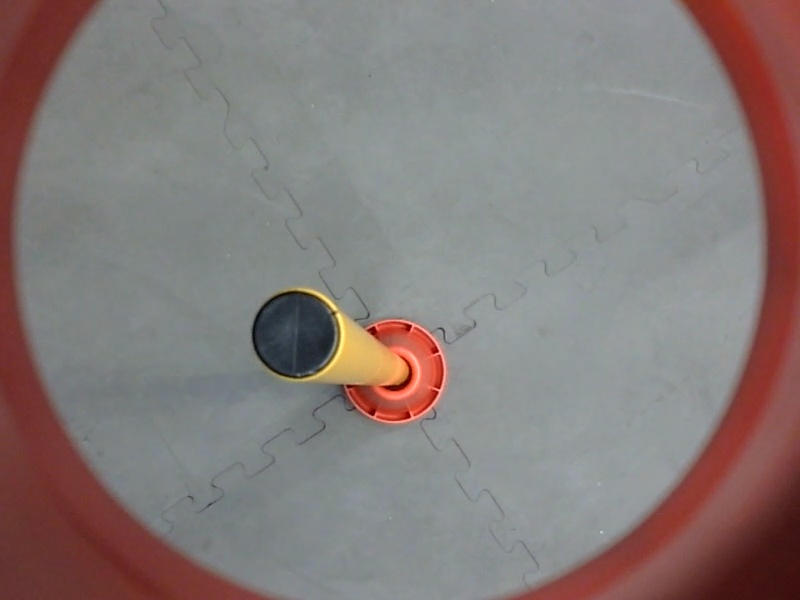tip: (243, 281, 351, 393)
